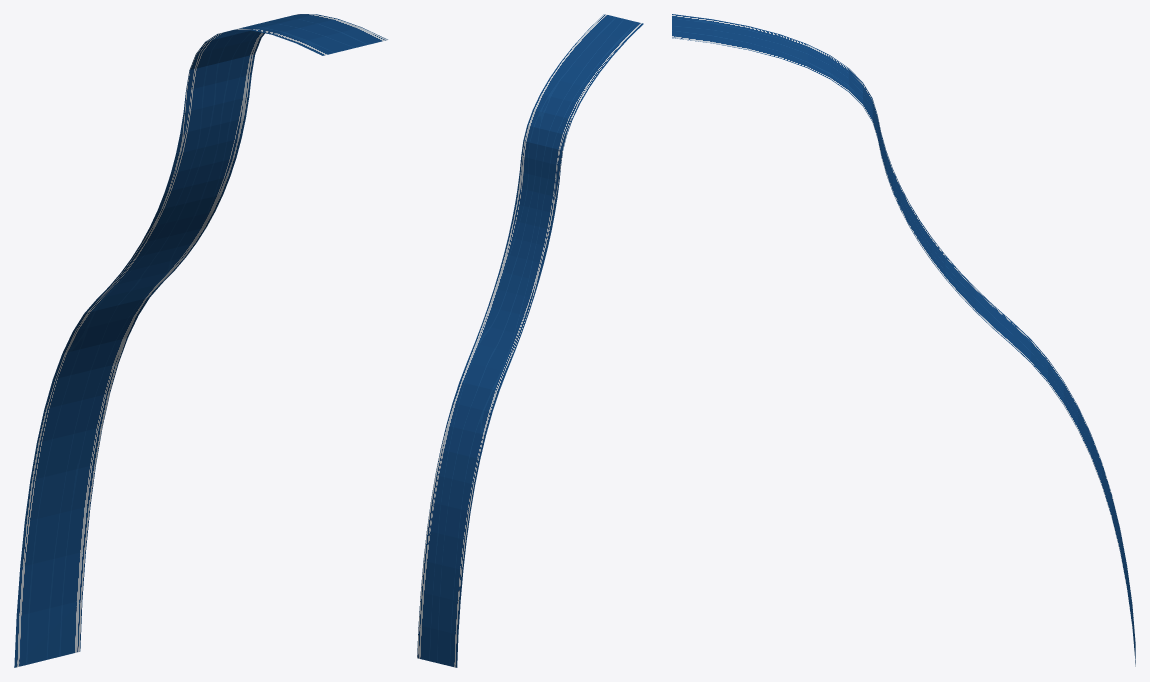
File: waterfall.obj
3 renders of one model, left to right at view 1: azimuth 30°, elevation 25°; view 2: azimuth 150°, elevation 25°; view 3: azimuth 270°, elevation 25°, orthographic. The views are drawn at different scales.
Visible parts, largest first — view 1: NurbsCurve_Mesh; view 2: NurbsCurve_Mesh; view 3: NurbsCurve_Mesh.
Part boxes in pixels (x1,y1,x2,y2): NurbsCurve_Mesh: (14, 14, 387, 667); NurbsCurve_Mesh: (417, 14, 643, 667); NurbsCurve_Mesh: (672, 14, 1135, 666).
Bounding box in the file's own units: 49.49 × 599 × 400.
Materials: 1 (1 with a texture image).
